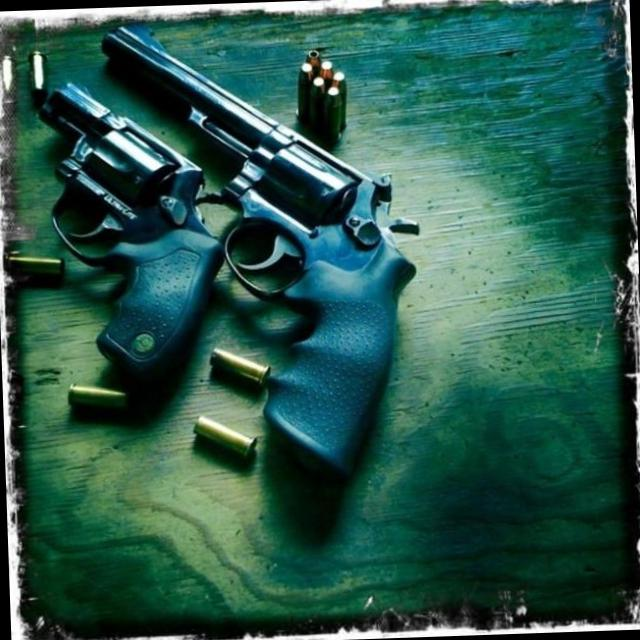Gun: (40, 27, 417, 475)
